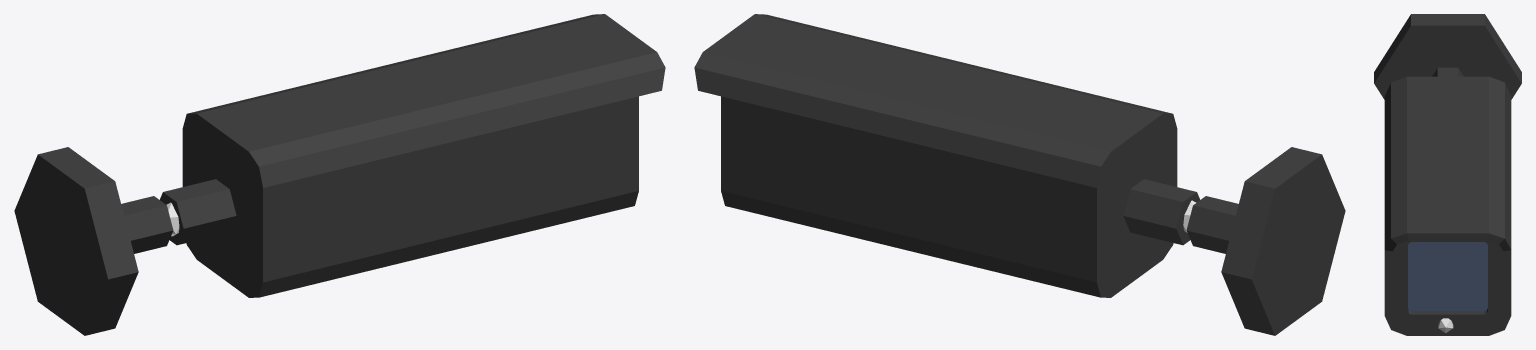
Rendered from cctv_static.fbx.
3 renders of one model, left to right at view 1: azimuth 30°, elevation 25°; view 2: azimuth 150°, elevation 25°; view 3: azimuth 270°, elevation 25°, orthographic. The views are drawn at different scales.
Parts seen in each view (by area): view 1: cctv_static; view 2: cctv_static; view 3: cctv_static.
Boxes of the visible parts, x1,y1,x2,y2 form: cctv_static: (14, 14, 665, 335); cctv_static: (694, 14, 1345, 335); cctv_static: (1374, 14, 1521, 335).
Bounding box in the file's own units: 1.22 × 0.3023 × 0.3491.
